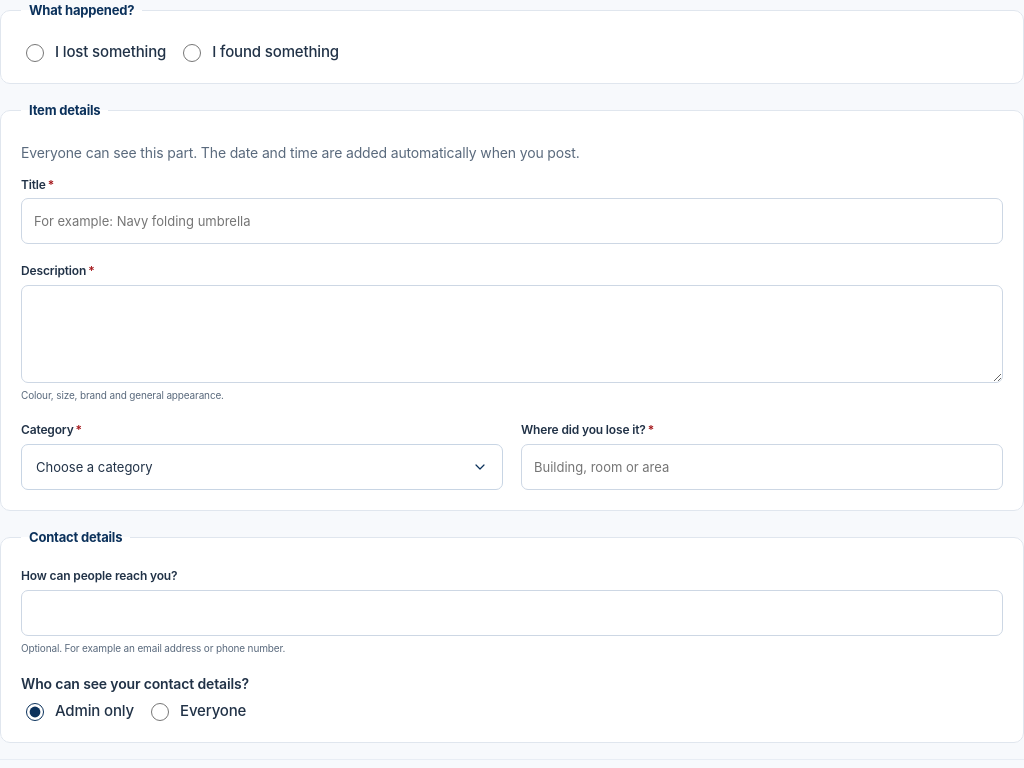
Scenario: FE-LF Lost and found › FE-LF-2 private details only for lost items; warning when contact is public
The image size is (1024, 768).
Click the radio button labelled "I found something".
click(192, 53)  # box [183,44,201,62]
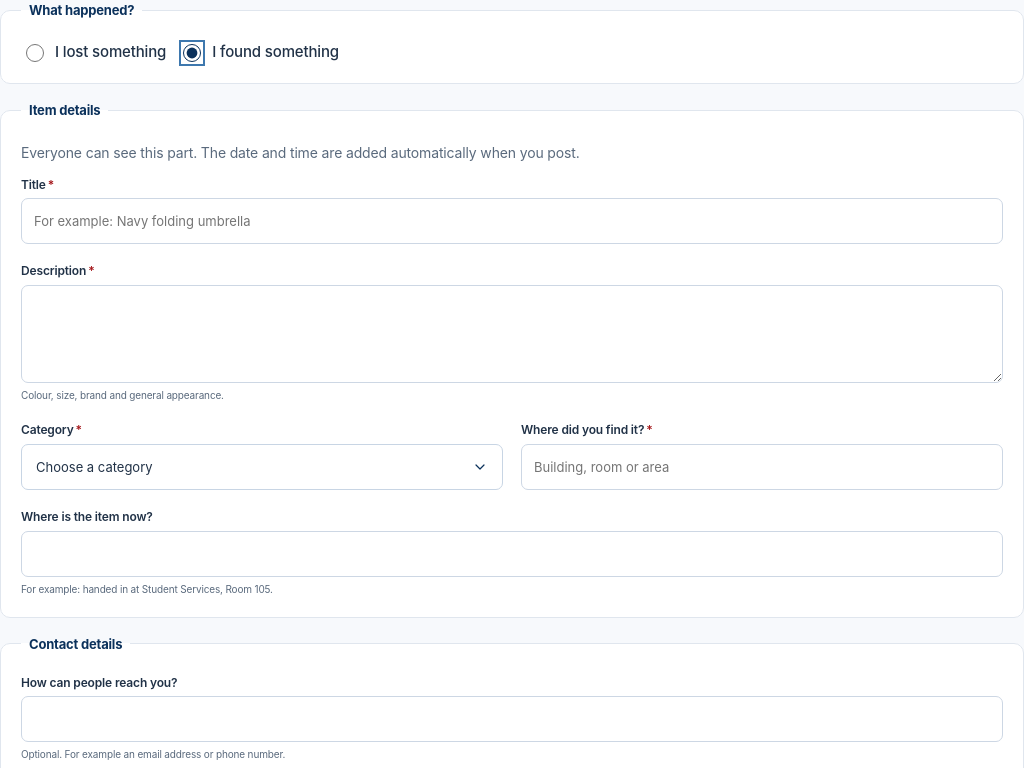
Click the radio button labelled "I lost something".
click(35, 53)  # box [26,44,44,62]
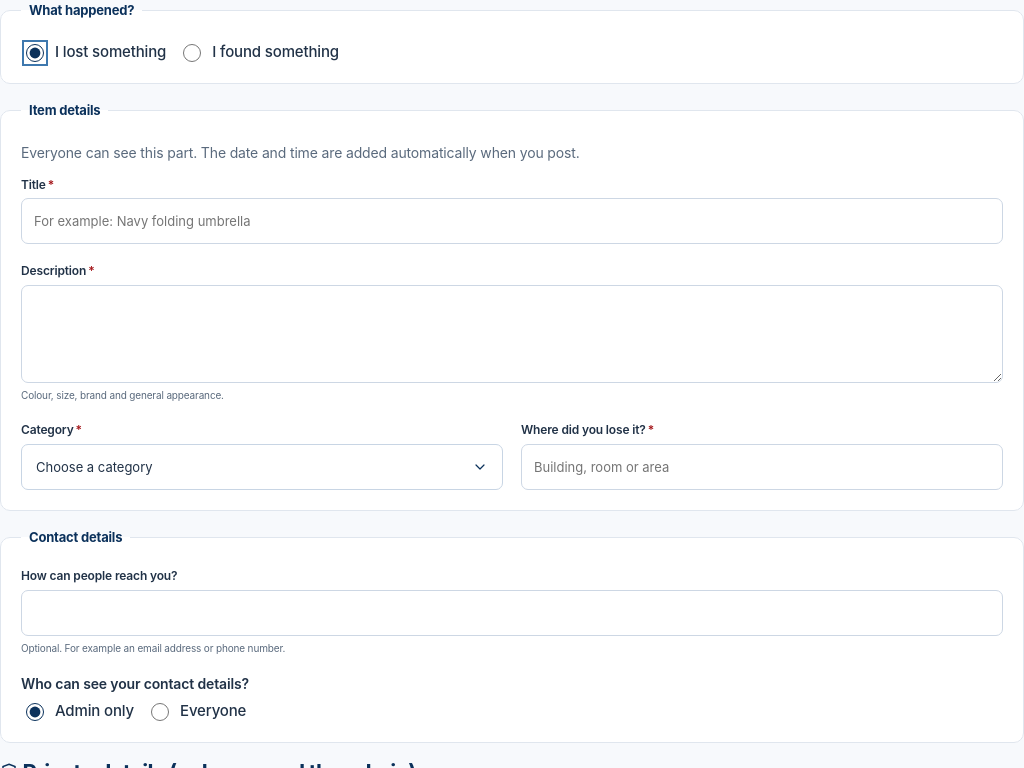
Click the radio button labelled "Everyone".
click(160, 712)  # box [151,703,169,721]
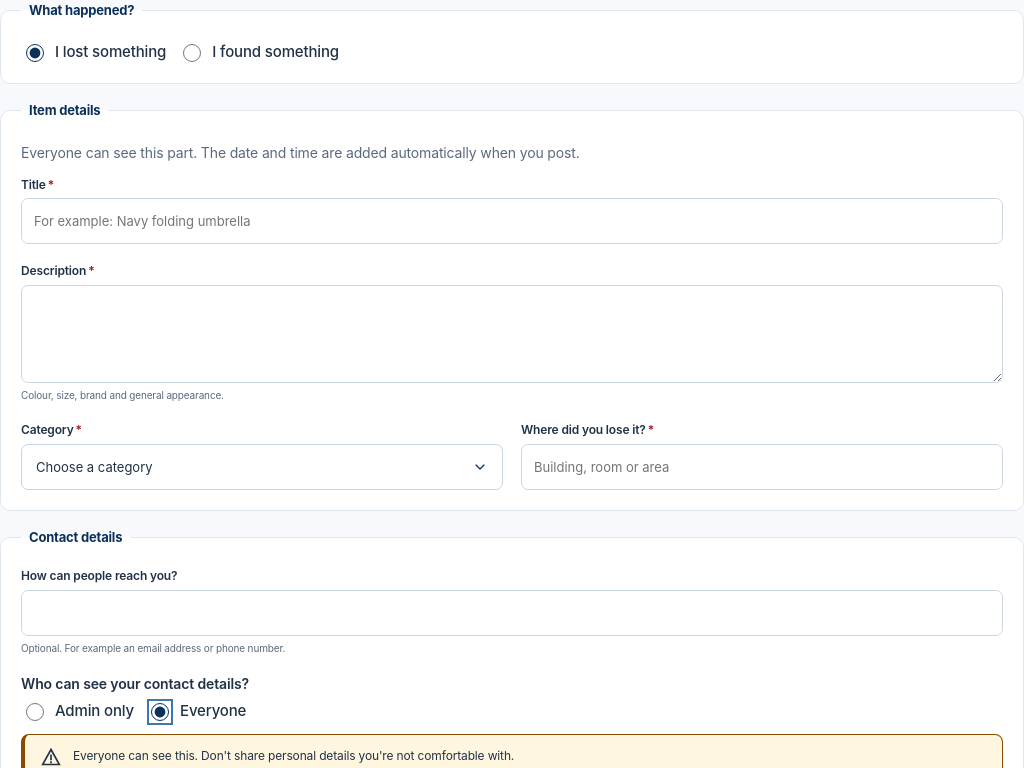
Now the text "share personal details" is shown, box [73,748,514,763]
